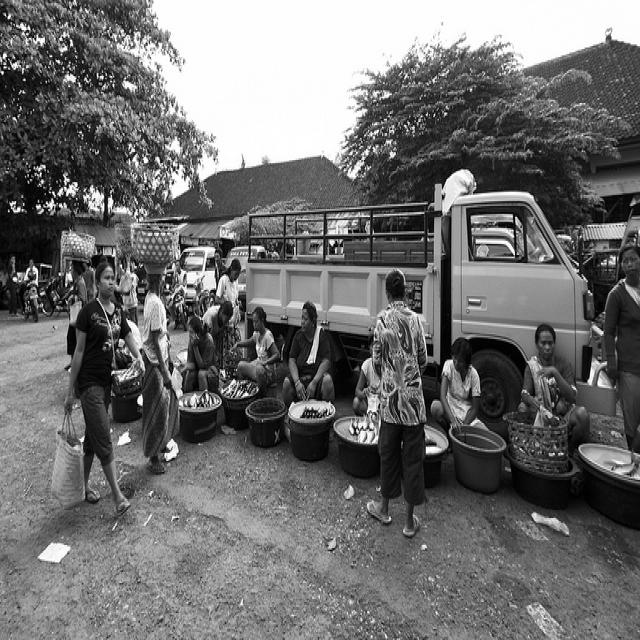motor: (39, 278, 75, 317), (167, 270, 189, 332), (192, 271, 213, 316), (24, 284, 42, 322)
